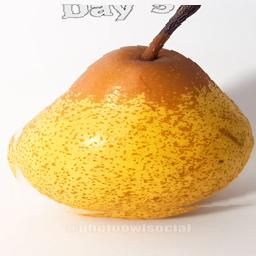Pear Semirotten: (7, 5, 256, 218)
